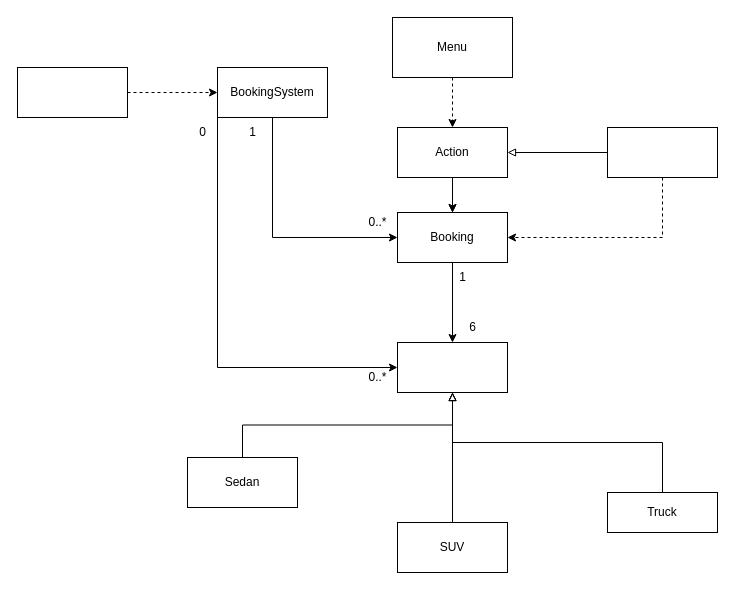
The diagram is 735 pixels wide and 590 high, and some of its shapes have lost their labels. The shapes that lost their labels are listed below. From the top down, each one's centre as x and y in pixels, then its label:
[72,92]: Application
[662,152]: AddBookingAction
[452,367]: Vehicle
